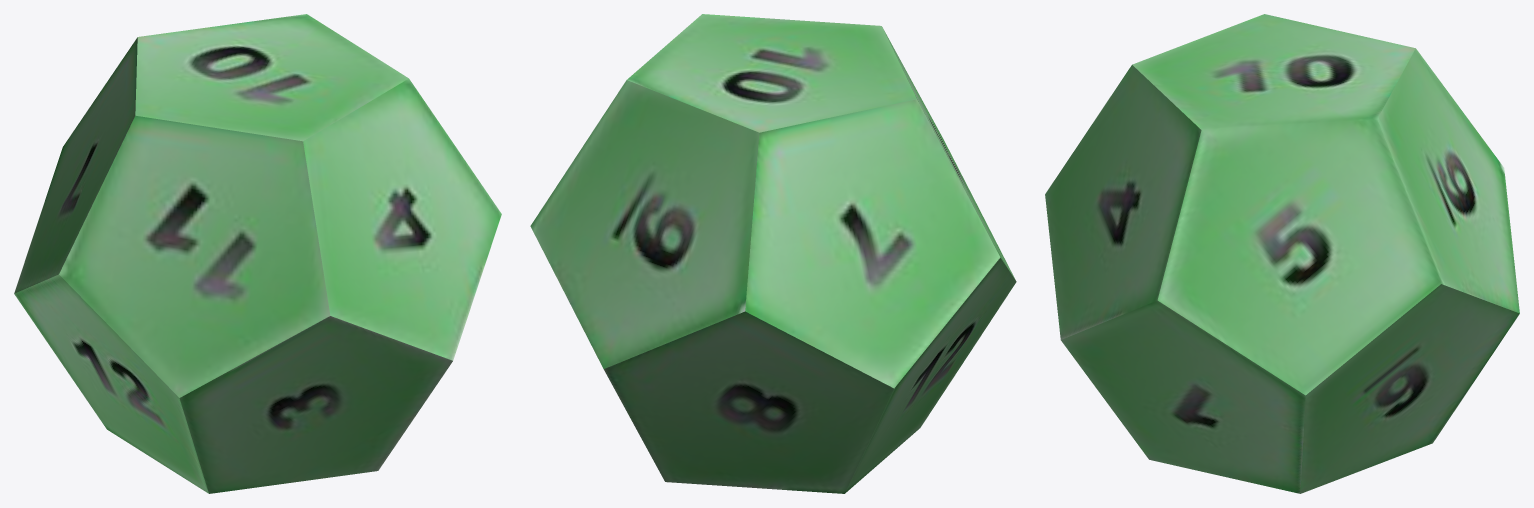
File: DADO COLOREAO.fbx
3 views of the same model, side by side, from view 1: azimuth 30°, elevation 25°; view 2: azimuth 150°, elevation 25°; view 3: azimuth 270°, elevation 25° (orthographic). The views are drawn at different scales.
Parts seen in each view (by area): view 1: Solid.001; view 2: Solid.001; view 3: Solid.001.
Boxes of the visible parts, box(x1,y1,x2,y2) form: Solid.001: box(14, 14, 501, 493); Solid.001: box(530, 14, 1016, 493); Solid.001: box(1045, 14, 1519, 493).
Size of the model in its own units: 196 by 162 by 192.
Materials: 1 (1 with a texture image).
